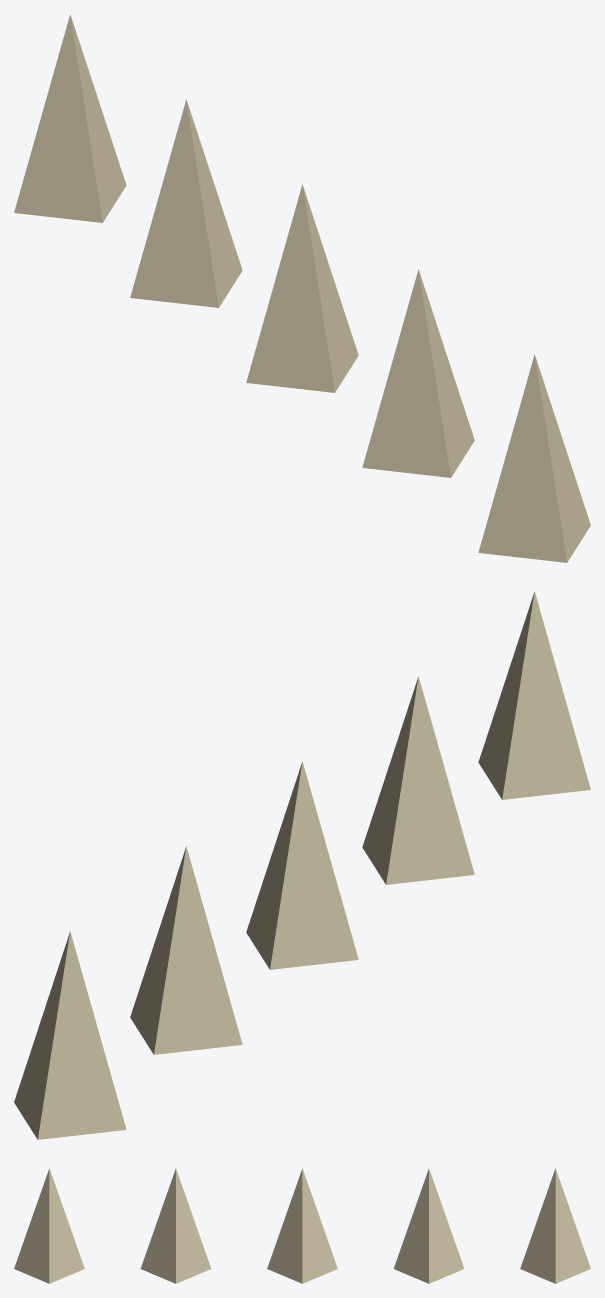
File: extra_spikes.glb
3 views of the same model, one above another, from view 1: azimuth 30°, elevation 25°; view 2: azimuth 150°, elevation 25°; view 3: azimuth 270°, elevation 25° (orthographic). The views are drawn at different scales.
Visible parts, largest first — view 1: extra_spikes; view 2: extra_spikes; view 3: extra_spikes.
Boxes of the visible parts, x1,y1,x2,y2 form: extra_spikes: [14, 14, 590, 562]; extra_spikes: [14, 591, 590, 1139]; extra_spikes: [14, 1168, 590, 1283].
Size of the model in its own units: 0.14 by 0.22 by 1.14.
